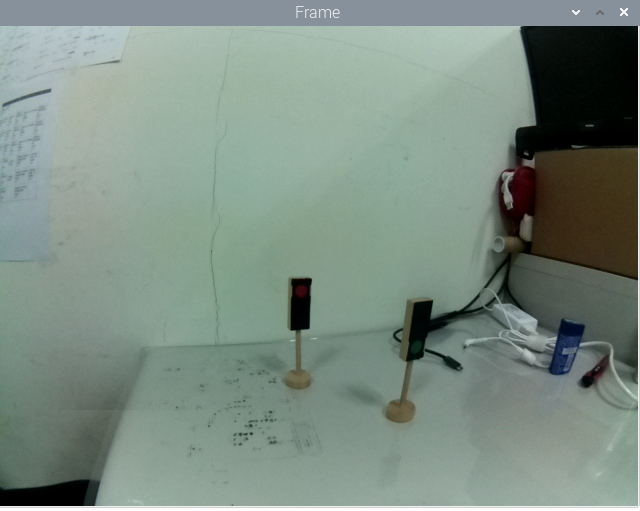Green: (396, 287, 434, 364)
Red: (281, 274, 318, 333)
